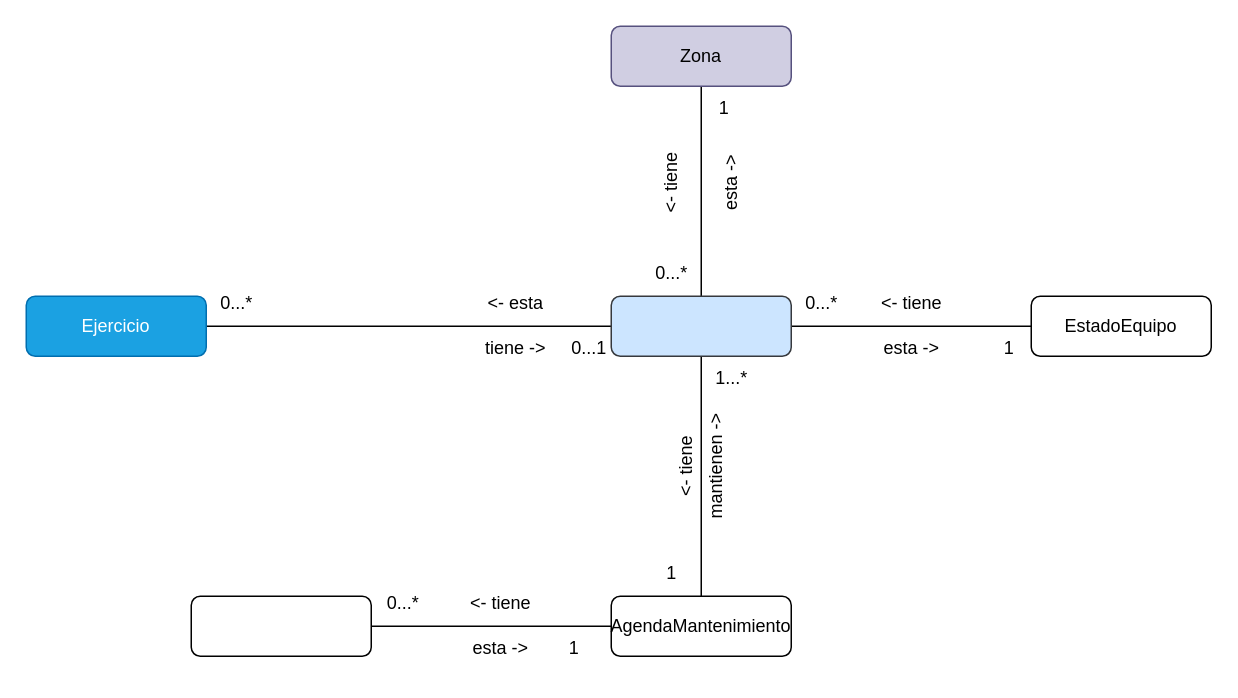
The diagram is 1238 pixels wide and 698 high, and some of its shapes have lost their labels. Each missing label, with the centre of its shape:
Equipo: the point at 700,325
EquipoMantenimiento: the point at 280,625
